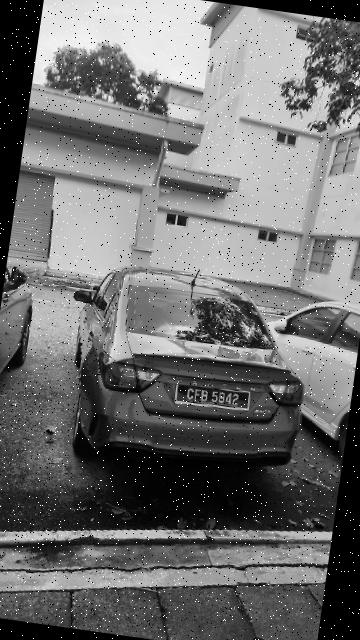License_Plate: (173, 382, 255, 417)
car: (47, 250, 325, 492)
